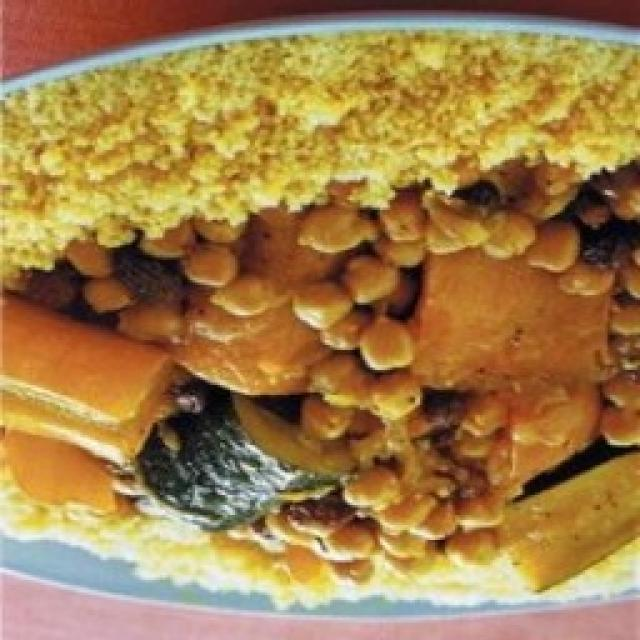Couscous: (0, 20, 640, 618)
